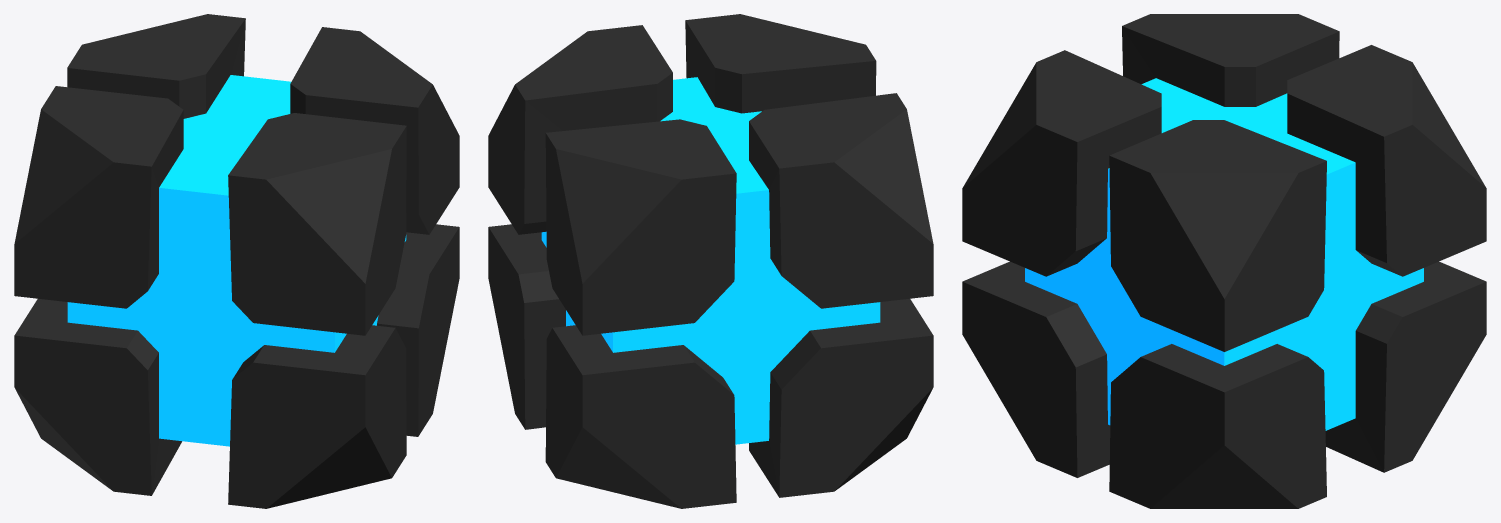
File: stack-climatology-pack.glb
3 views of the same model, side by side, from view 1: azimuth 30°, elevation 25°; view 2: azimuth 150°, elevation 25°; view 3: azimuth 270°, elevation 25° (orthographic). The views are drawn at different scales.
Parts seen in each view (by area): view 1: Cube.030; view 2: Cube.030; view 3: Cube.030.
Part boxes in pixels (x1=…): Cube.030: x1=14, y1=14, x2=459, y2=508; Cube.030: x1=488, y1=14, x2=933, y2=508; Cube.030: x1=962, y1=14, x2=1486, y2=508.
Bounding box in the file's own units: 2.5 × 1.76 × 2.5.
1 material, 1 textured.
